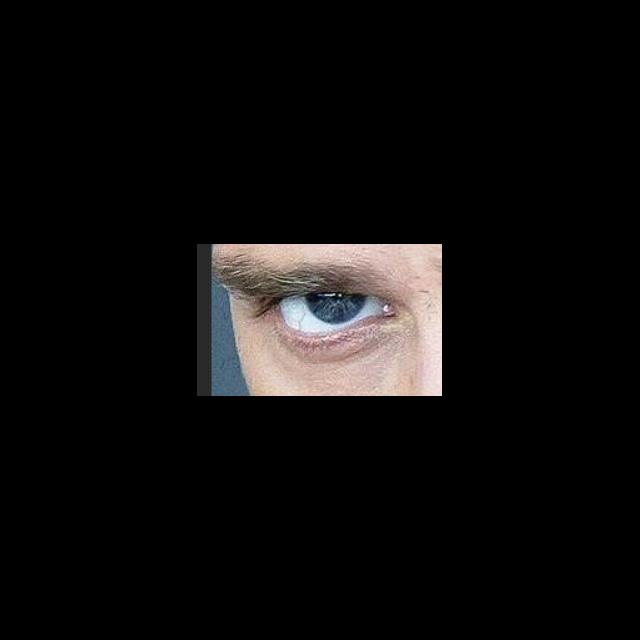eye: (282, 293, 383, 333)
iris: (305, 294, 366, 324)
